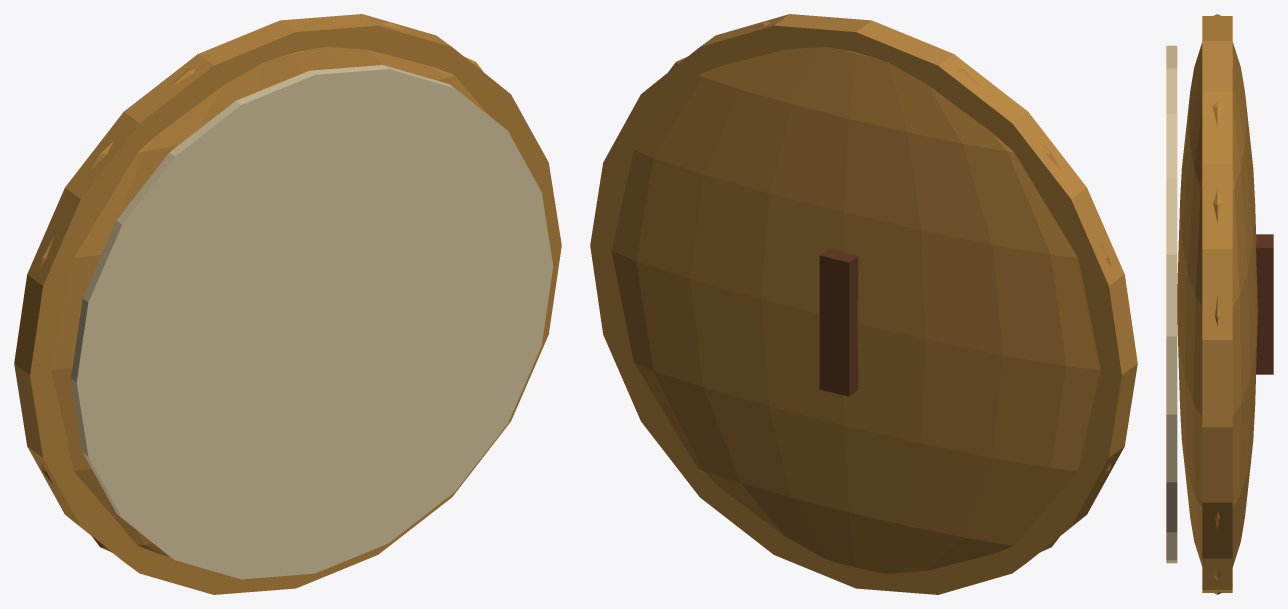
File: dienekes-aspis.glb
3 renders of one model, left to right at view 1: azimuth 30°, elevation 25°; view 2: azimuth 150°, elevation 25°; view 3: azimuth 270°, elevation 25°, orthographic. The views are drawn at different scales.
Visible parts, largest first — view 1: Aspis_Customizable_Face, Aspis_Rim, Aspis_Bowl; view 2: Aspis_Bowl, Aspis_Rim, Aspis_Arm_Brace; view 3: Aspis_Bowl, Aspis_Rim, Aspis_Customizable_Face, Aspis_Arm_Brace.
Part boxes in pixels (<box>): Aspis_Customizable_Face: <box>71,65,553,579</box>; Aspis_Rim: <box>14,14,561,594</box>; Aspis_Bowl: <box>40,22,487,556</box>; Aspis_Bowl: <box>611,22,1111,573</box>; Aspis_Rim: <box>590,14,1137,594</box>; Aspis_Arm_Brace: <box>819,249,858,396</box>; Aspis_Bowl: <box>1177,14,1257,594</box>; Aspis_Rim: <box>1202,16,1232,592</box>; Aspis_Customizable_Face: <box>1166,45,1177,563</box>; Aspis_Arm_Brace: <box>1256,234,1273,374</box>.
Bounding box in the file's own units: 54 × 54 × 9.95.
